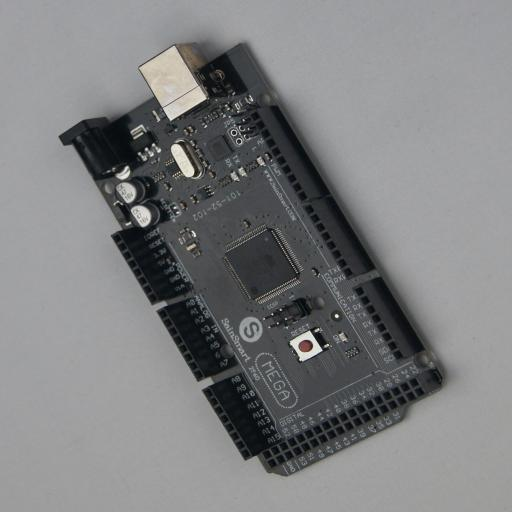Arduino Mega 2560 -Black-: (58, 41, 449, 476)
